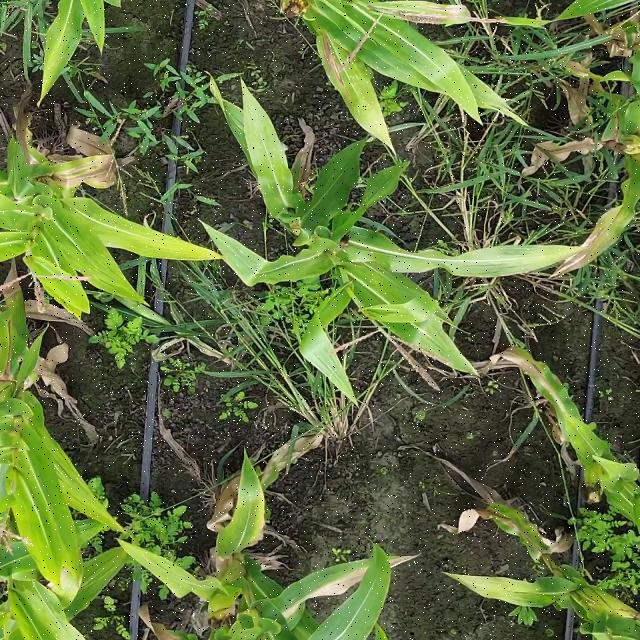northern-leaf-blight: (266, 547, 419, 633), (542, 189, 632, 284), (229, 444, 283, 564), (36, 140, 144, 197)
